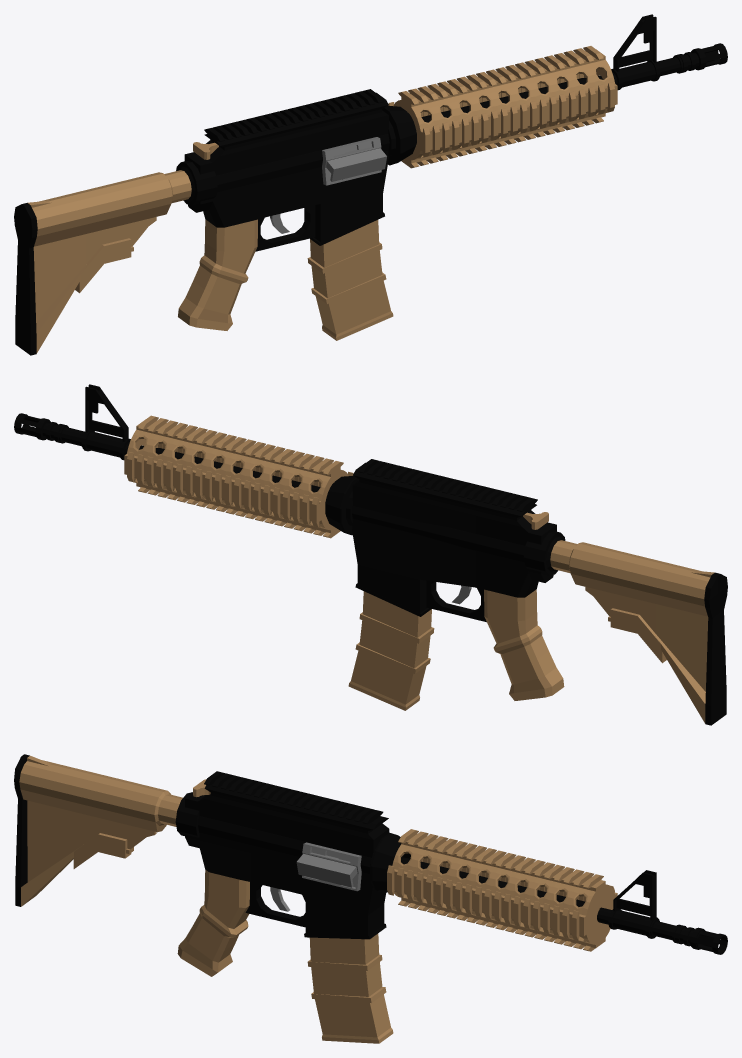
The picture shows the model from 3 angles, top to bottom: view 1: azimuth 30°, elevation 25°; view 2: azimuth 150°, elevation 25°; view 3: azimuth 330°, elevation 25°; orthographic projection.
Visible parts, largest first — view 1: Gun, Magazine, Ironsights; view 2: Gun, Magazine, Ironsights; view 3: Gun, Magazine, Ironsights.
Boxes of the visible parts, bbox=[...] form: Gun: bbox=[14, 43, 727, 355]; Magazine: bbox=[307, 220, 393, 340]; Ironsights: bbox=[611, 14, 659, 90]; Gun: bbox=[14, 413, 727, 725]; Magazine: bbox=[348, 591, 434, 710]; Ironsights: bbox=[82, 384, 130, 460]; Gun: bbox=[14, 754, 727, 976]; Magazine: bbox=[307, 933, 393, 1043]; Ironsights: bbox=[608, 870, 659, 938].
Size of the model in its own units: 420 by 138 by 39.69.
